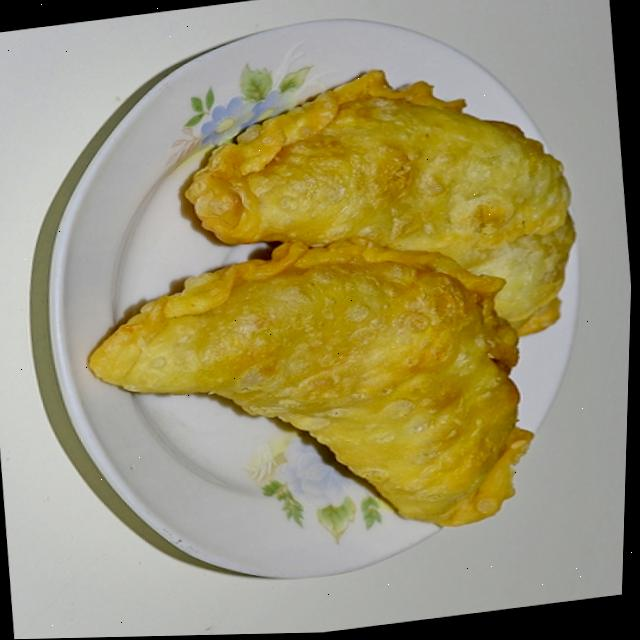炸货点心: (30, 13, 634, 595)
